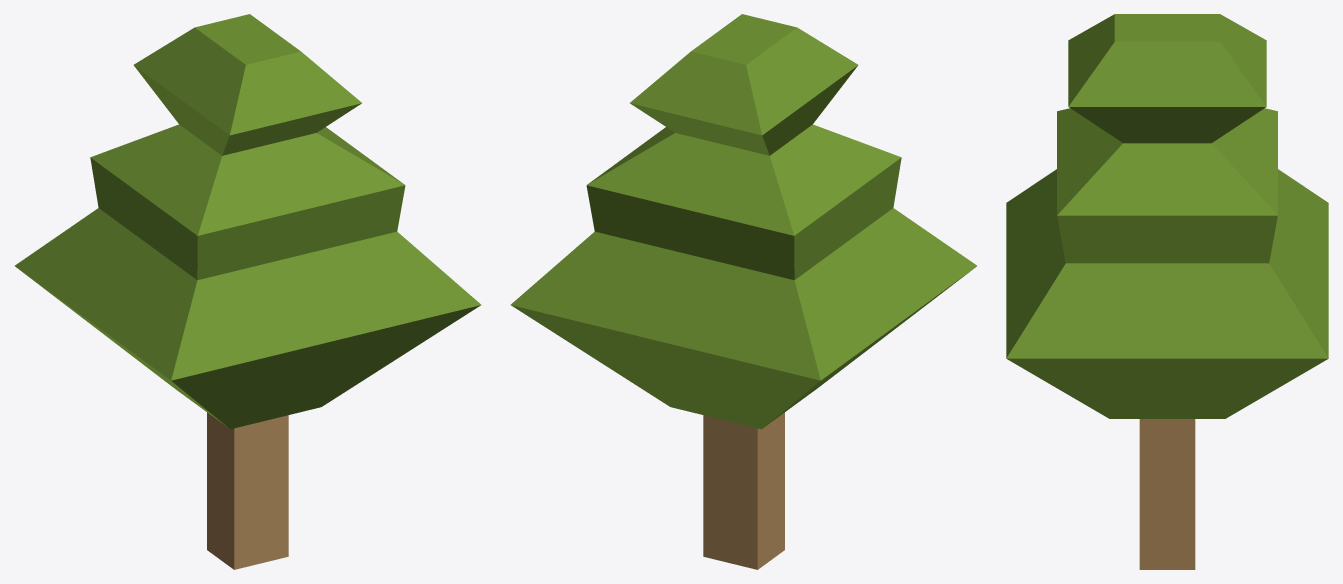
Rendered from treef.fbx.
3 views of the same model, side by side, from view 1: azimuth 30°, elevation 25°; view 2: azimuth 150°, elevation 25°; view 3: azimuth 270°, elevation 25° (orthographic). The views are drawn at different scales.
Visible parts, largest first — view 1: Box003; view 2: Box003; view 3: Box003.
Boxes of the visible parts, x1,y1,x2,y2 form: Box003: (15,14,481,569); Box003: (510,14,976,569); Box003: (1006,14,1328,569).
Size of the model in its own units: 415 by 656 by 363.
